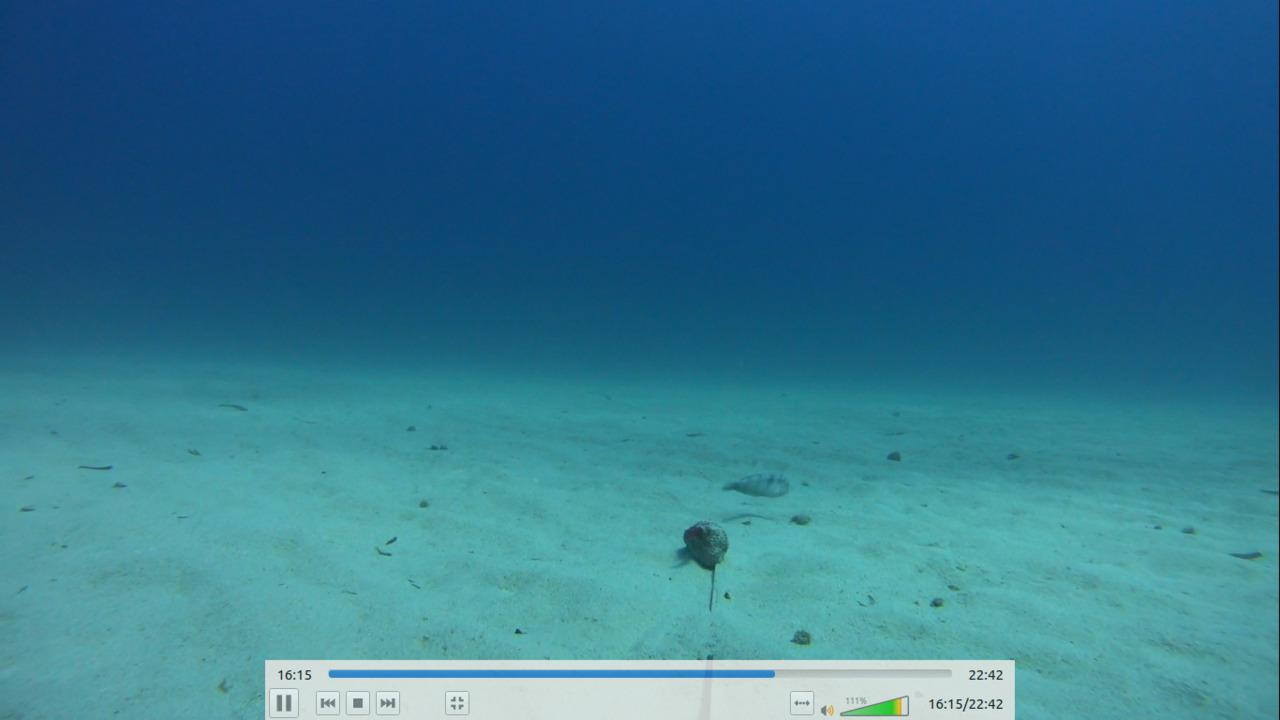raor: (713, 466, 793, 501)
